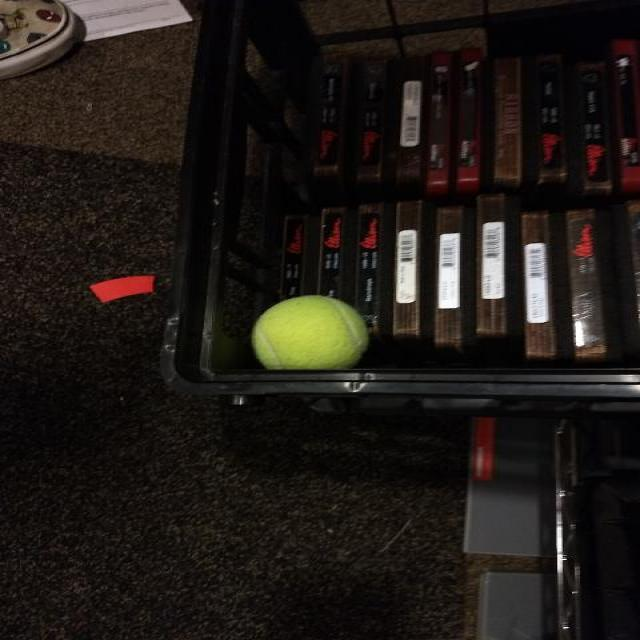tennis-ball: (249, 293, 371, 367)
